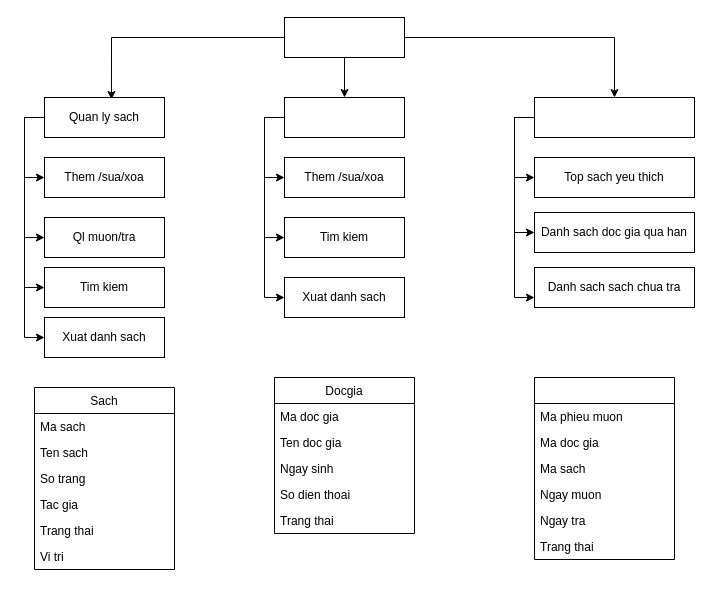
The diagram is 712 pixels wide and 590 high, and some of its shapes have lost their labels. Each missing label, with the box of its shape:
Phieu muon tra: (534, 376, 674, 560)
QL THU VIEN: (284, 16, 404, 58)
Quan ly doc gia: (284, 96, 404, 138)
Thong ke: (534, 96, 694, 138)
